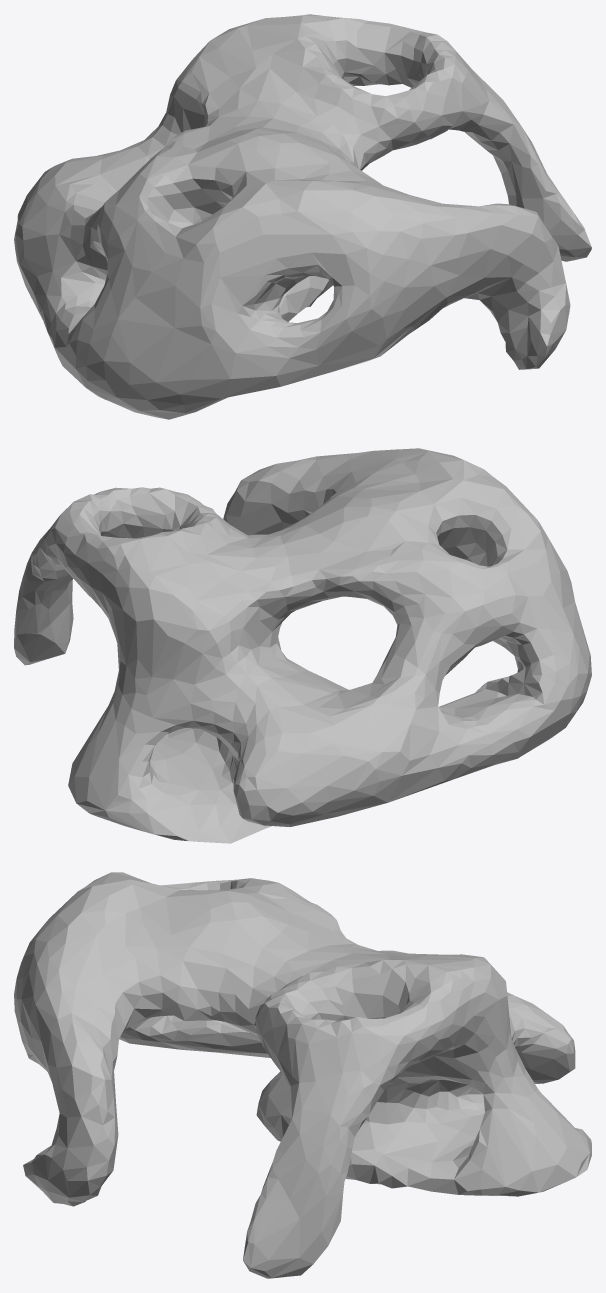
File: Rock_047.glb
3 renders of one model, top to bottom at view 1: azimuth 30°, elevation 25°; view 2: azimuth 150°, elevation 25°; view 3: azimuth 270°, elevation 25°, orthographic. The views are drawn at different scales.
Parts seen in each view (by area): view 1: Rock_047; view 2: Rock_047; view 3: Rock_047.
Boxes of the visible parts, box(x1,y1,x2,y2) form: Rock_047: box(14, 14, 591, 419); Rock_047: box(14, 448, 591, 843); Rock_047: box(14, 872, 591, 1278).
Bounding box in the file's own units: 14.37 × 6.07 × 13.55.
Materials: 1 (1 with a texture image).
